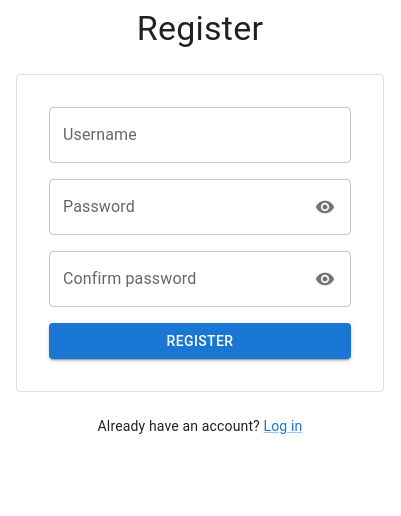
RegisterPage › shows the server error message when the username is already taken
The image size is (401, 516).
Type "alice" into the field labelled "Username".
click(200, 135); type("alice")  # box left=49, top=107, right=351, bottom=163
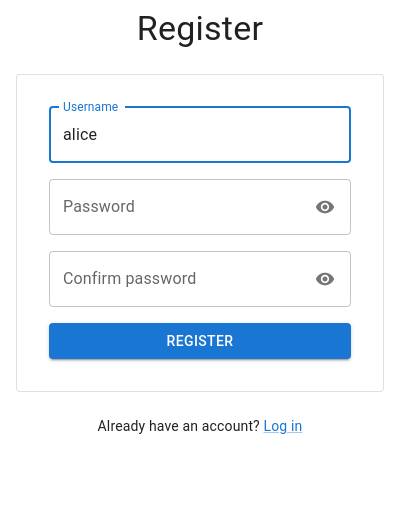
Type "secret123" into the password field labelled "Password".
click(176, 207); type("secret123")  # box left=49, top=179, right=302, bottom=235
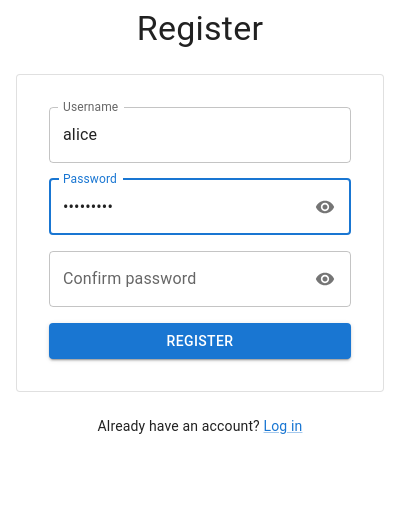
Type "secret123" into the password field labelled "Confirm password".
click(176, 279); type("secret123")  # box left=49, top=251, right=302, bottom=307
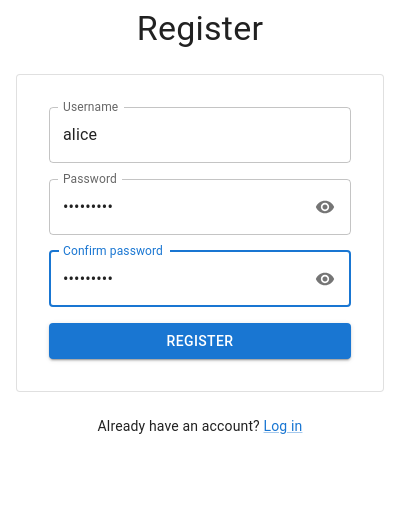
Click the button "Register".
click(200, 341)  # box left=49, top=323, right=351, bottom=360
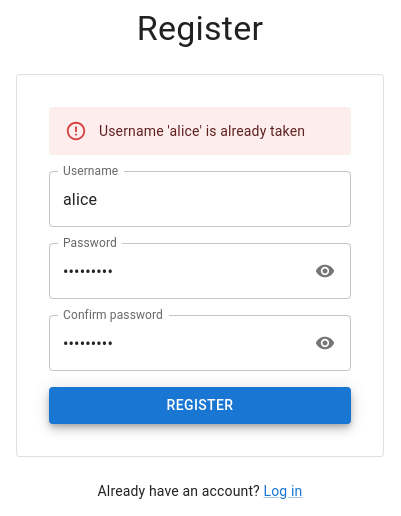
Now the text "Username 'alice' is already taken" is shown, box left=99, top=123, right=305, bottom=139
